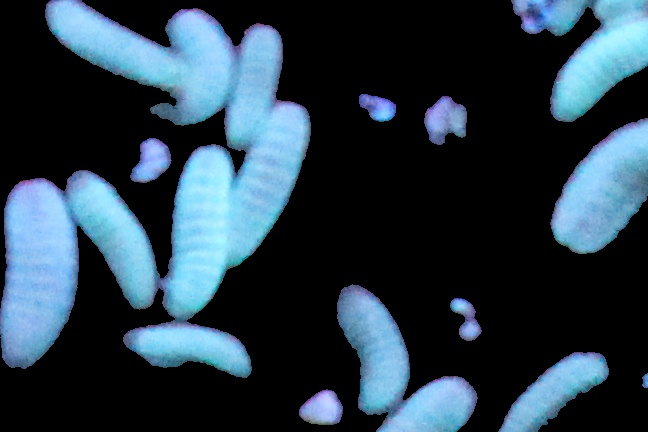larvae: (536, 120, 648, 254), (1, 178, 77, 368), (226, 103, 305, 272), (44, 1, 176, 96), (170, 143, 236, 322), (496, 339, 604, 430), (333, 288, 406, 416), (554, 19, 646, 119), (120, 320, 252, 384), (82, 180, 150, 304), (225, 27, 282, 140), (381, 377, 484, 429)
